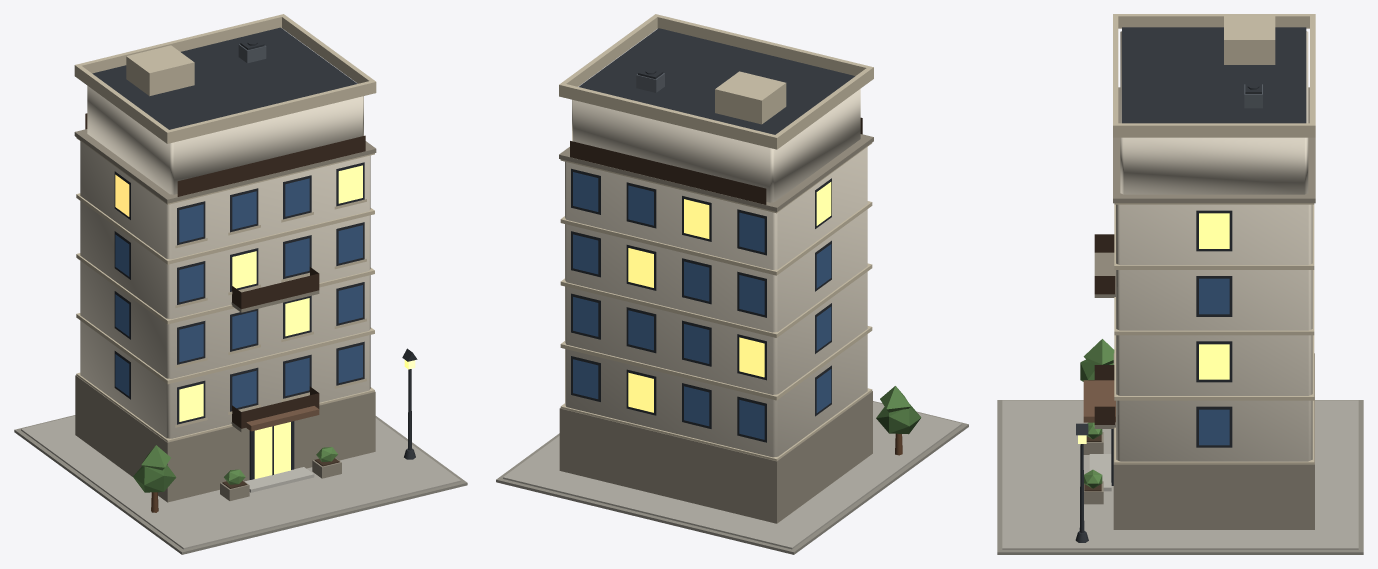
File: meadow-apartments.glb
The picture shows the model from 3 angles, left to right: view 1: azimuth 30°, elevation 25°; view 2: azimuth 150°, elevation 25°; view 3: azimuth 270°, elevation 25°; orthographic projection. The views are drawn at different scales.
Visible parts, largest first — view 1: Merged_apartment-render, Merged_apartment-render-shade, Merged_city-paving, Merged_apartment-stone, Merged_city-metal-dark, Merged_city-glass-surface, Merged_city-window-frame, Merged_apartment-balcony-rail, Merged_city-lit-glass-surface, Merged_city-curb, Merged_city-foliage, Merged_city-foliage-deep (+2 smaller); view 2: Merged_apartment-render, Merged_apartment-stone, Merged_apartment-render-shade, Merged_city-paving, Merged_city-metal-dark, Merged_city-glass-surface, Merged_city-window-frame, Merged_city-lit-glass-surface, Merged_apartment-balcony-rail, Merged_city-curb, Merged_city-foliage-deep; view 3: Merged_apartment-render, Merged_city-paving, Merged_apartment-stone, Merged_city-metal-dark, Merged_apartment-render-shade, Merged_city-curb, Merged_city-glass-surface, Merged_city-lit-glass-surface, Merged_city-window-frame, Merged_apartment-balcony-rail, Merged_apartment-accent, Merged_city-foliage (+1 smaller).
Boxes of the visible parts, x1,y1,x2,y2 form: Merged_apartment-render: [80, 86, 370, 438]; Merged_apartment-render-shade: [74, 14, 376, 442]; Merged_city-paving: [21, 416, 460, 549]; Merged_apartment-stone: [74, 129, 376, 502]; Merged_city-metal-dark: [92, 27, 417, 459]; Merged_city-glass-surface: [115, 178, 362, 408]; Merged_city-window-frame: [114, 162, 364, 479]; Merged_apartment-balcony-rail: [85, 113, 365, 428]; Merged_city-lit-glass-surface: [115, 165, 362, 478]; Merged_city-curb: [14, 415, 467, 554]; Merged_city-foliage: [141, 445, 337, 484]; Merged_city-foliage-deep: [133, 465, 176, 492]; Merged_apartment-render: [565, 89, 867, 457]; Merged_apartment-stone: [559, 134, 873, 523]; Merged_apartment-render-shade: [559, 14, 873, 460]; Merged_city-paving: [503, 402, 961, 549]; Merged_city-metal-dark: [579, 28, 855, 134]; Merged_city-glass-surface: [573, 172, 831, 439]; Merged_city-window-frame: [571, 168, 831, 442]; Merged_city-lit-glass-surface: [628, 182, 831, 412]; Merged_apartment-balcony-rail: [570, 117, 862, 204]; Merged_city-curb: [496, 401, 968, 554]; Merged_city-foliage-deep: [876, 404, 921, 434]; Merged_apartment-render: [1116, 31, 1312, 461]; Merged_city-paving: [1002, 400, 1358, 549]; Merged_apartment-stone: [1083, 87, 1315, 529]; Merged_city-metal-dark: [1075, 27, 1306, 542]; Merged_apartment-render-shade: [1113, 14, 1315, 464]; Merged_city-curb: [997, 400, 1363, 554]; Merged_city-glass-surface: [1199, 278, 1229, 445]; Merged_city-lit-glass-surface: [1199, 213, 1229, 379]; Merged_city-window-frame: [1111, 210, 1232, 485]; Merged_apartment-balcony-rail: [1094, 234, 1115, 424]; Merged_apartment-accent: [1083, 380, 1115, 422]; Merged_city-foliage: [1083, 339, 1114, 488].
Size of what is drawn, in the model's own units: 9.16 by 11.9 by 9.31.
